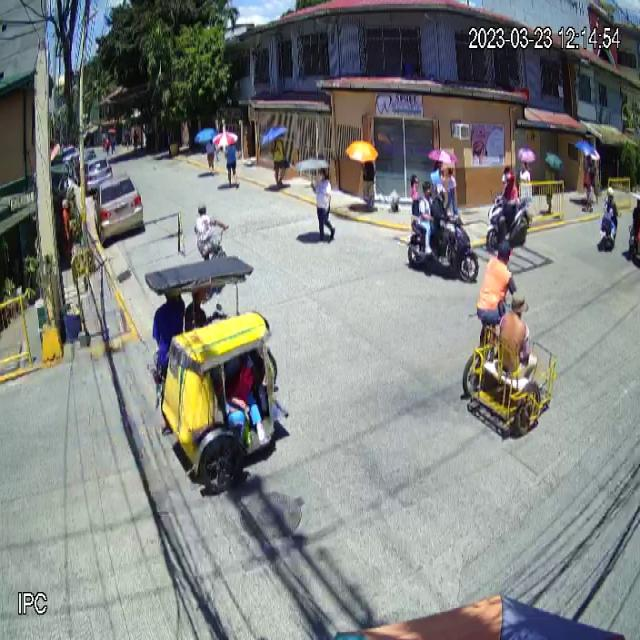Motorcycle: (408, 216, 480, 283)
Tricycle: (143, 255, 291, 494)
